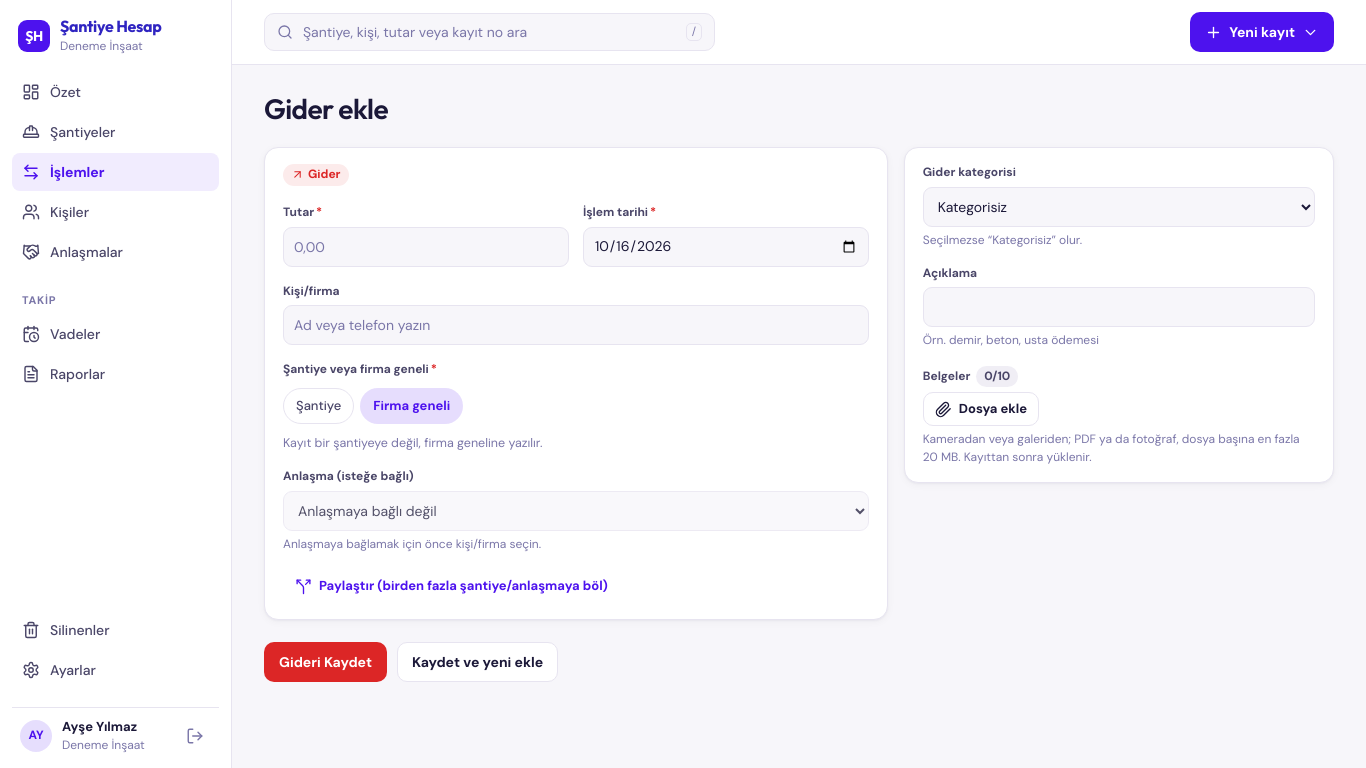
Test case: gider formu › ondalık için nokta kullanılırsa alan altında uyarı
Type "12.5" into the field labelled "Tutar*" at (426, 246), box [283,226,569,266]
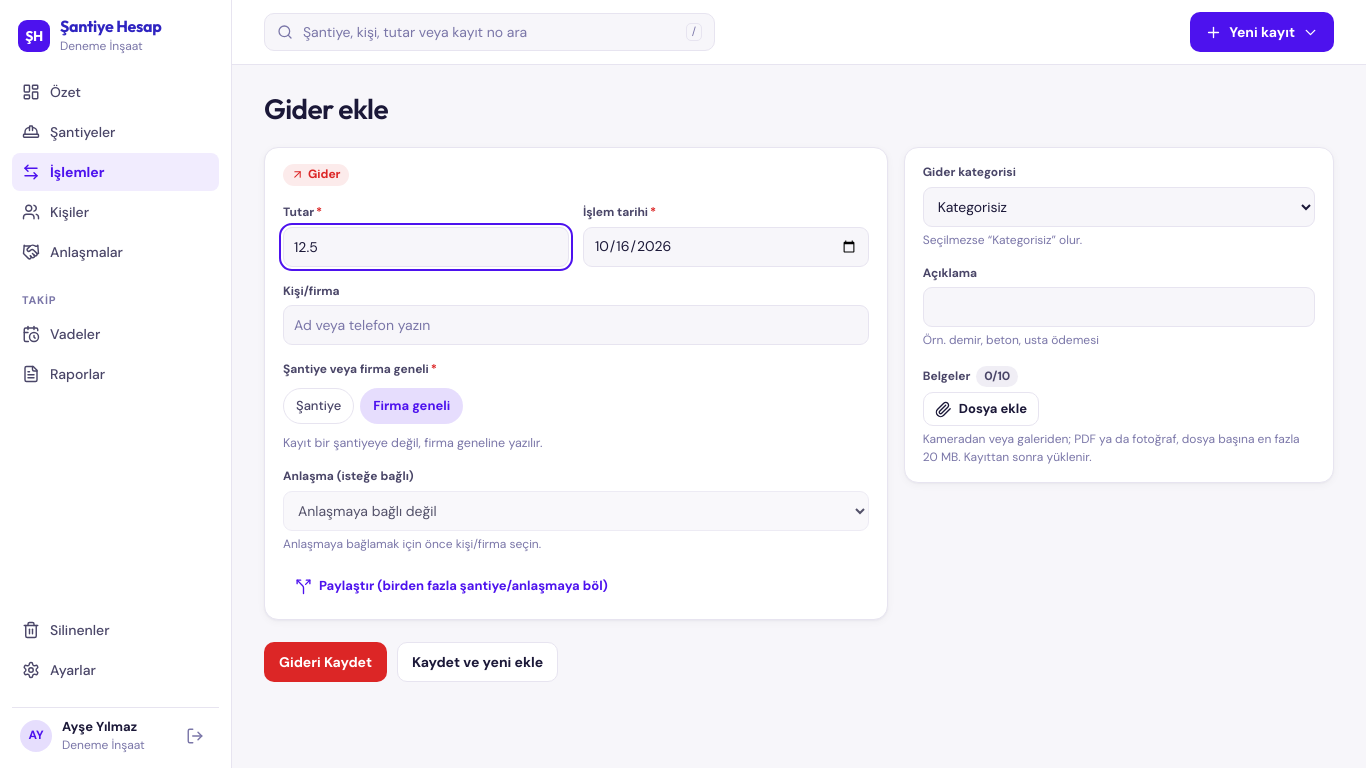
Click the button "Gideri Kaydet" at (326, 662), box [264,642,387,682]
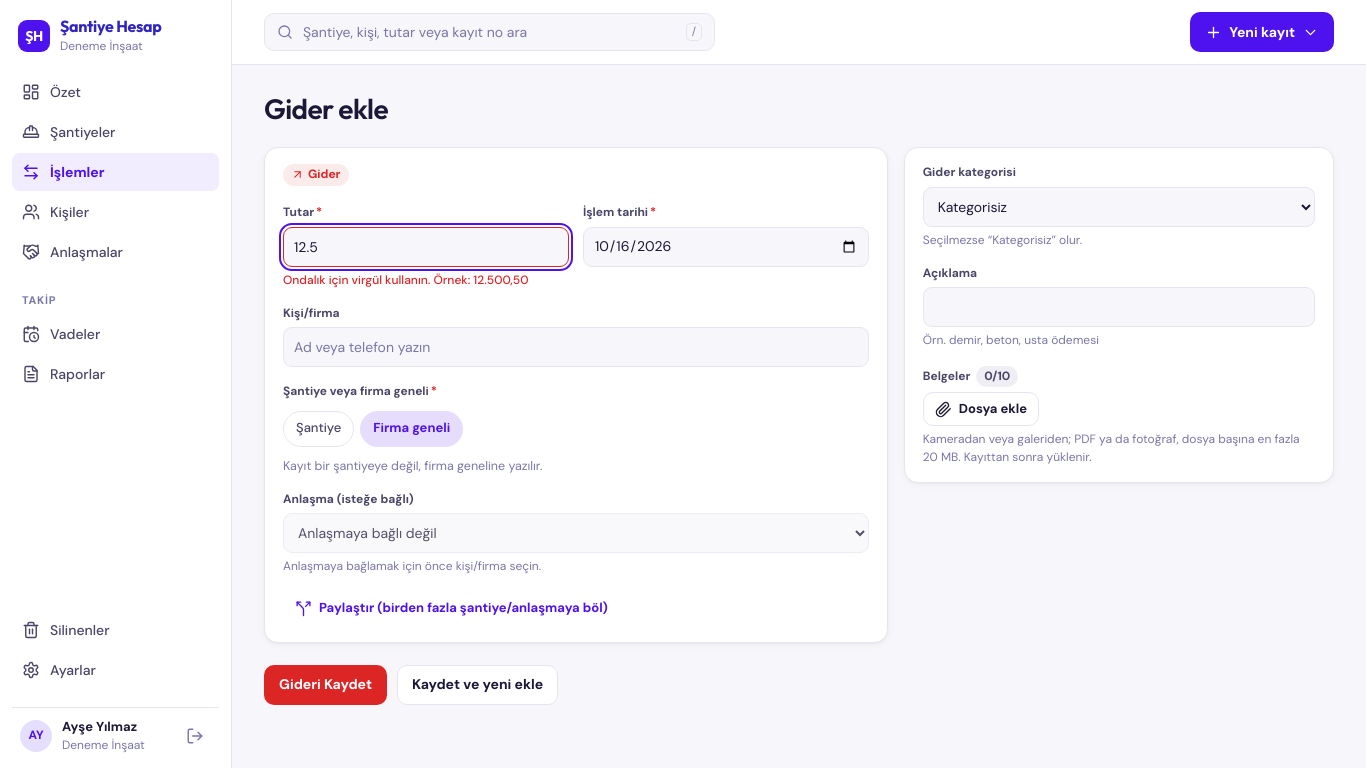
Expected: the text "Ondalık için virgül kullanın. Örnek: 12.500,50" is shown, [283,272,569,289]
